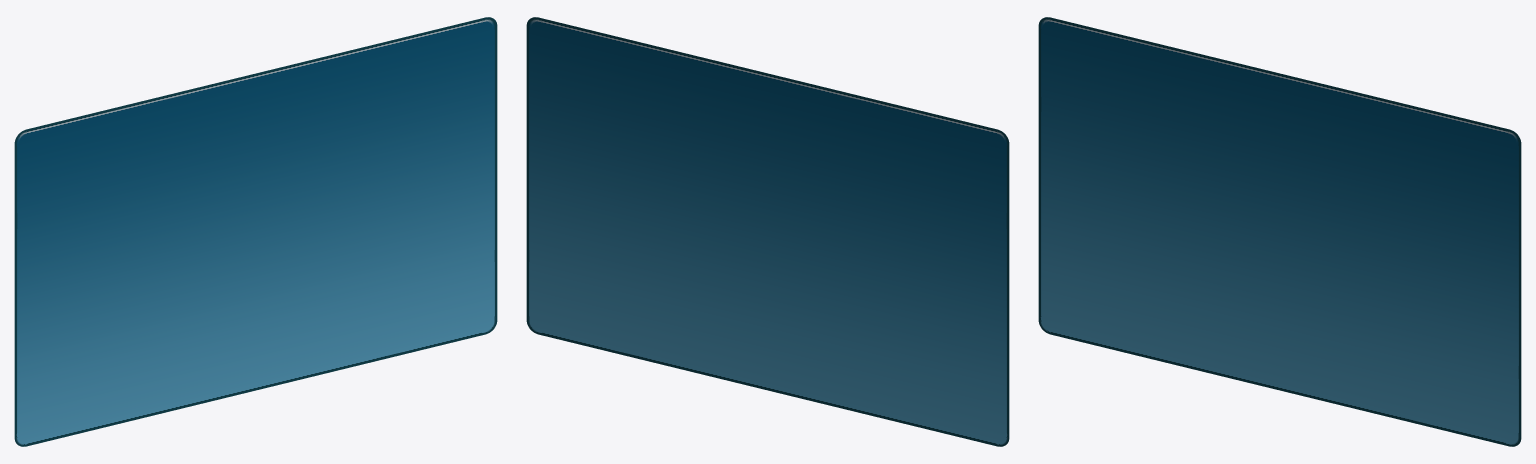
File: daylyReward.fbx
The picture shows the model from 3 angles, left to right: view 1: azimuth 30°, elevation 25°; view 2: azimuth 150°, elevation 25°; view 3: azimuth 330°, elevation 25°; orthographic projection.
Visible parts, largest first — view 1: smallwindow3; view 2: smallwindow3; view 3: smallwindow3.
Boxes of the visible parts, x1=… form: smallwindow3: x1=14, y1=17, x2=497, y2=446; smallwindow3: x1=526, y1=17, x2=1009, y2=446; smallwindow3: x1=1038, y1=17, x2=1521, y2=446.
Bounding box in the file's own units: 1050 × 659 × 4.27e-14.
